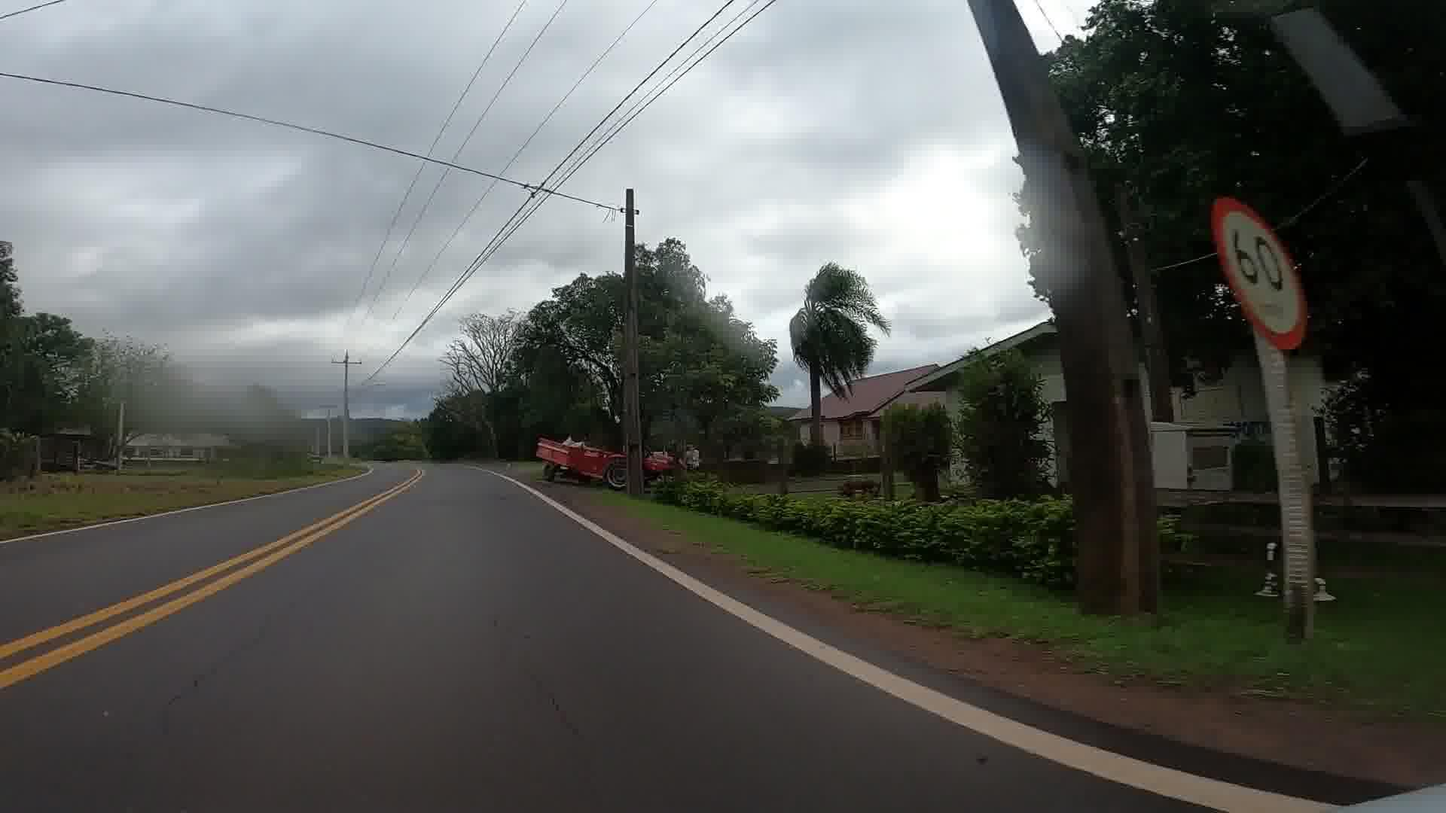R-19: (1218, 193, 1307, 349)
